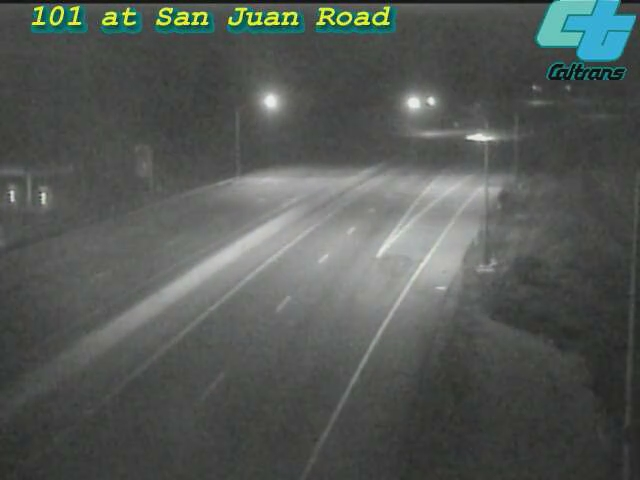vehicle: (453, 113, 503, 163)
